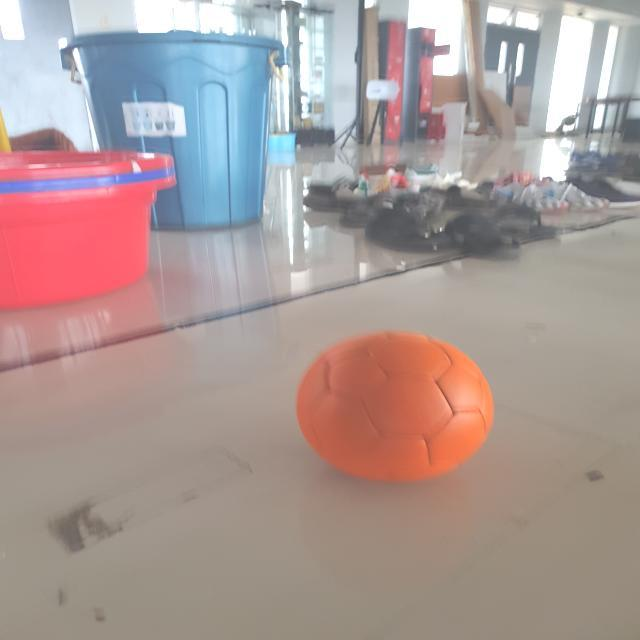bola: (288, 326, 496, 494)
